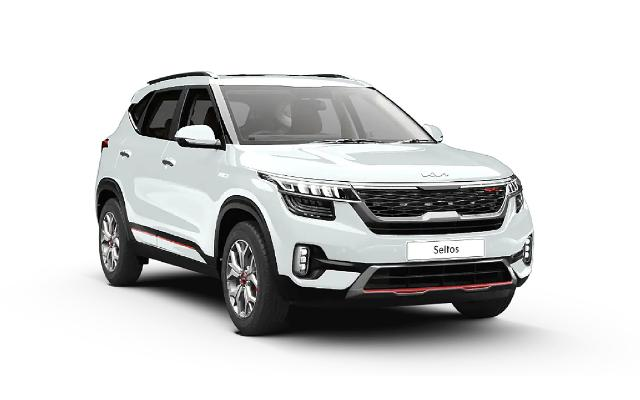kia: (94, 71, 536, 334)
